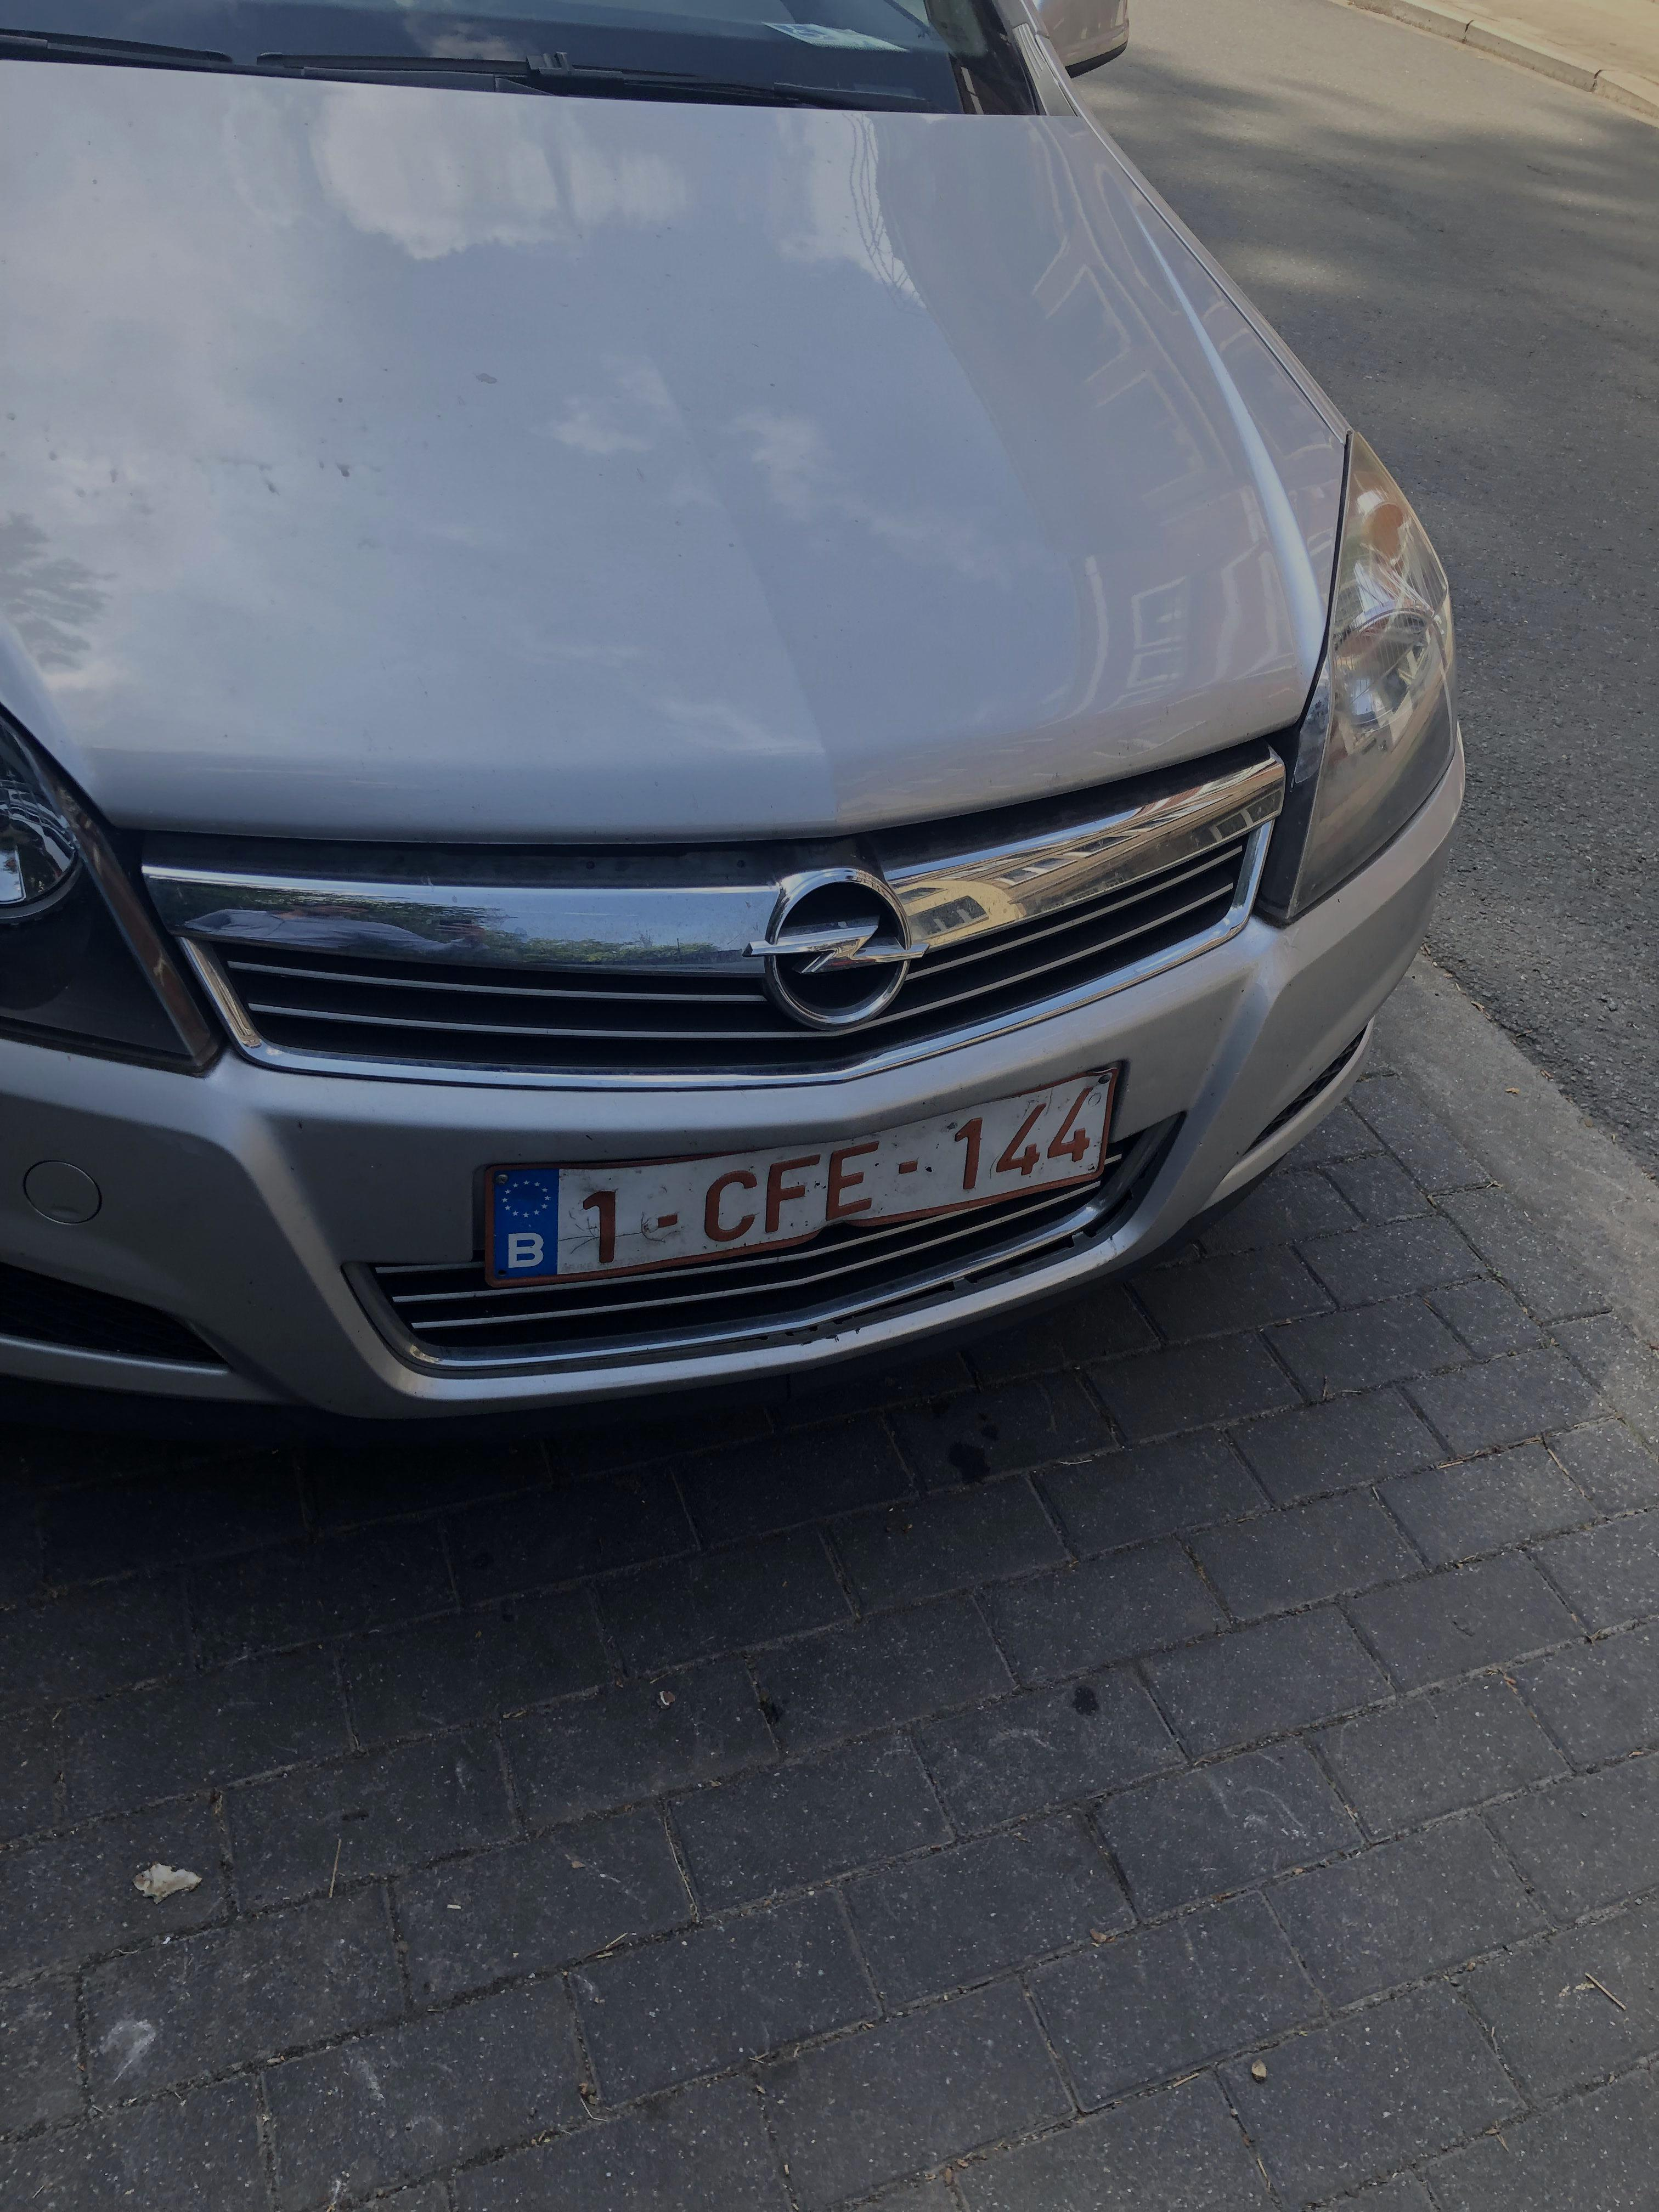plate: (469, 1066, 1127, 1313)
